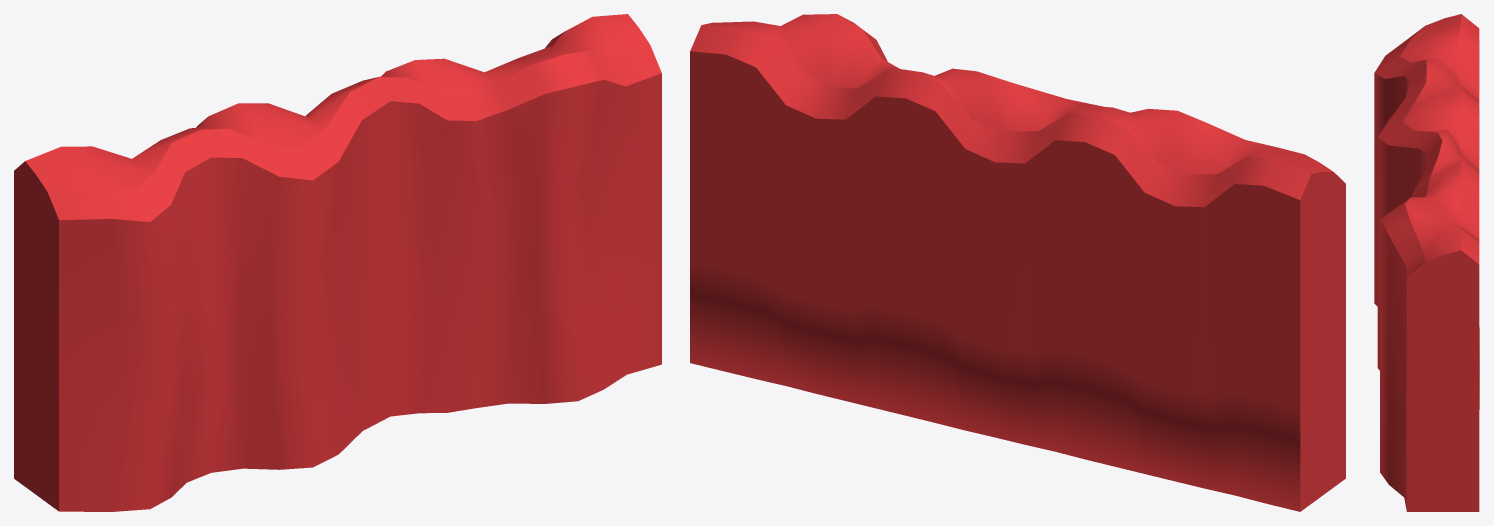
File: Texturizado_Suelo_Gelatina_002.glb
The picture shows the model from 3 angles, left to right: view 1: azimuth 30°, elevation 25°; view 2: azimuth 150°, elevation 25°; view 3: azimuth 270°, elevation 25°; orthographic projection. The views are drawn at different scales.
Parts seen in each view (by area): view 1: Modelado_Suelo_Fluido_001; view 2: Modelado_Suelo_Fluido_001; view 3: Modelado_Suelo_Fluido_001.
Boxes of the visible parts, x1,y1,x2,y2 form: Modelado_Suelo_Fluido_001: (14,14,661,511); Modelado_Suelo_Fluido_001: (690,14,1345,511); Modelado_Suelo_Fluido_001: (1374,14,1479,511).
Size of the model in its own units: 8 by 4.25 by 1.51.
